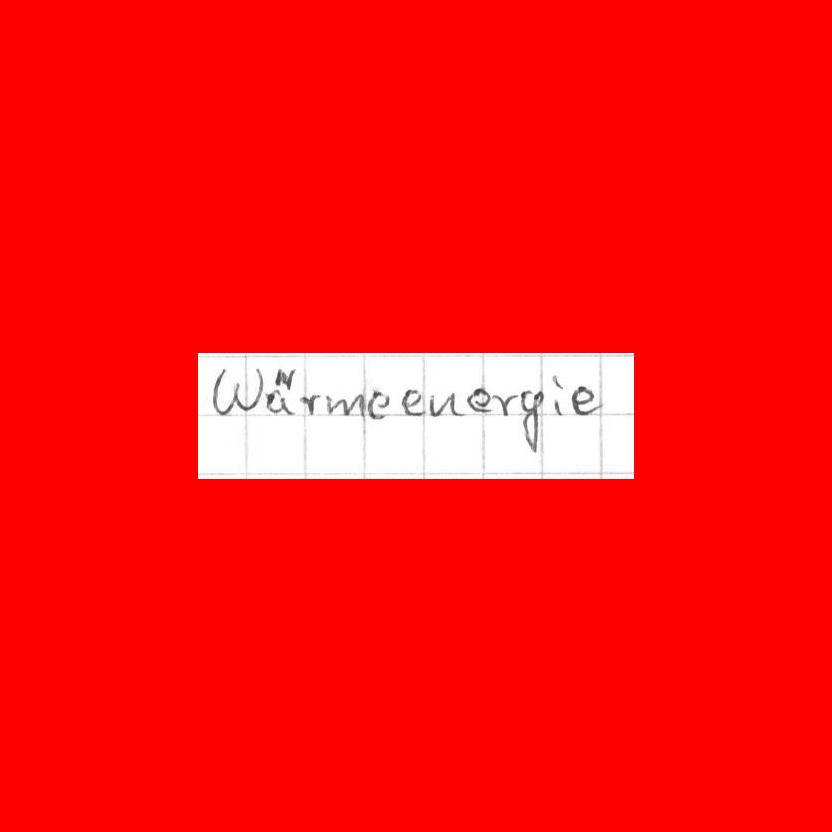Char: (213, 367, 264, 417), (264, 364, 294, 415), (521, 388, 543, 454), (327, 391, 367, 419), (569, 384, 596, 418), (430, 389, 459, 419), (550, 372, 566, 415), (368, 389, 391, 418), (401, 388, 424, 415), (467, 387, 488, 416), (491, 391, 514, 416), (300, 391, 322, 414)
